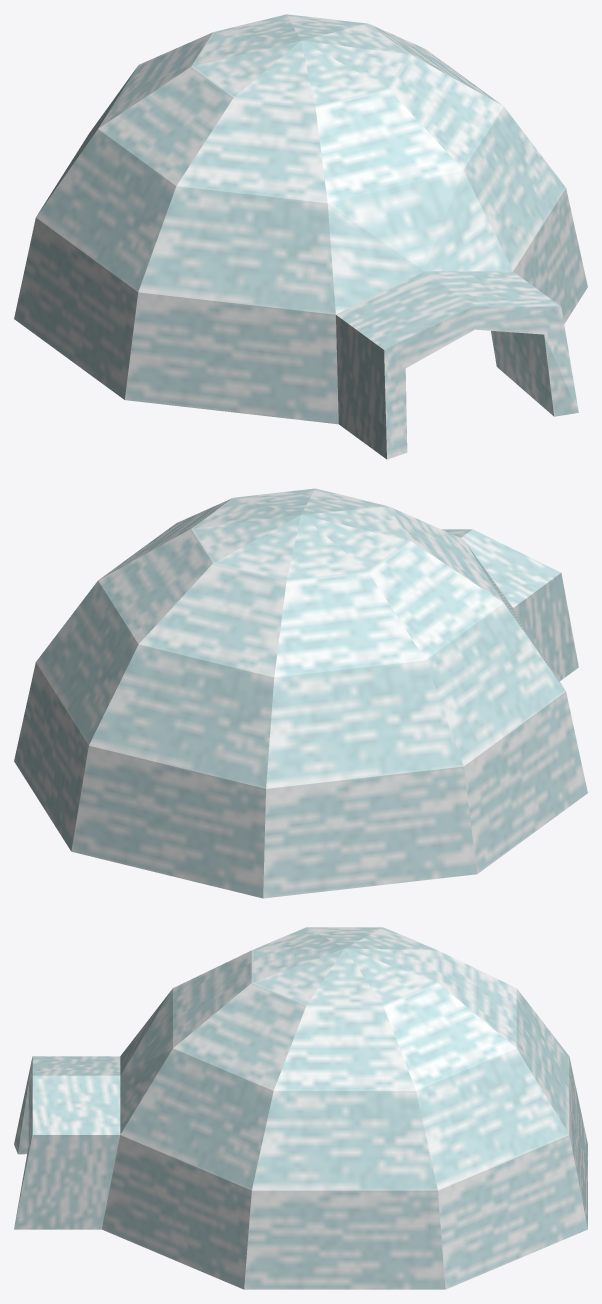
Rendered from igloo.obj.
3 views of the same model, one above another, from view 1: azimuth 30°, elevation 25°; view 2: azimuth 150°, elevation 25°; view 3: azimuth 270°, elevation 25° (orthographic). The views are drawn at different scales.
Visible parts, largest first — view 1: Sphere; view 2: Sphere; view 3: Sphere.
Part boxes in pixels (left/top/right/bottom): Sphere: left=14, top=14, right=587, bottom=459; Sphere: left=14, top=488, right=587, bottom=898; Sphere: left=14, top=927, right=587, bottom=1289.
Bounding box in the file's own units: 5.54 × 3 × 6.54.
